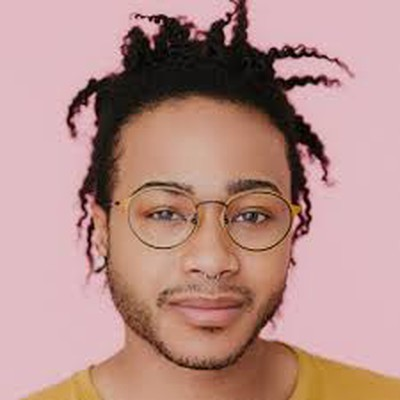eywear: (102, 142, 305, 268)
